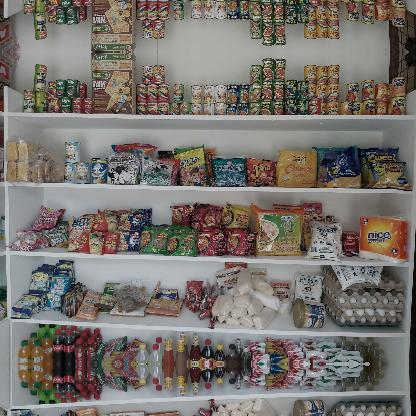Koko-Krunch: (89, 52, 140, 116), (88, 0, 140, 53)
Lady-s-Choice: (291, 296, 327, 330), (291, 398, 328, 415)
